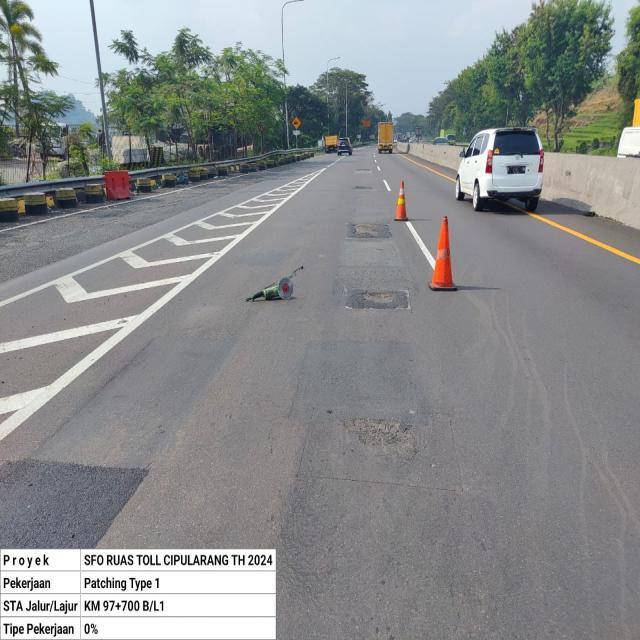Buraco: (338, 415, 420, 463), (352, 289, 401, 306), (349, 222, 382, 239), (352, 184, 374, 191)
